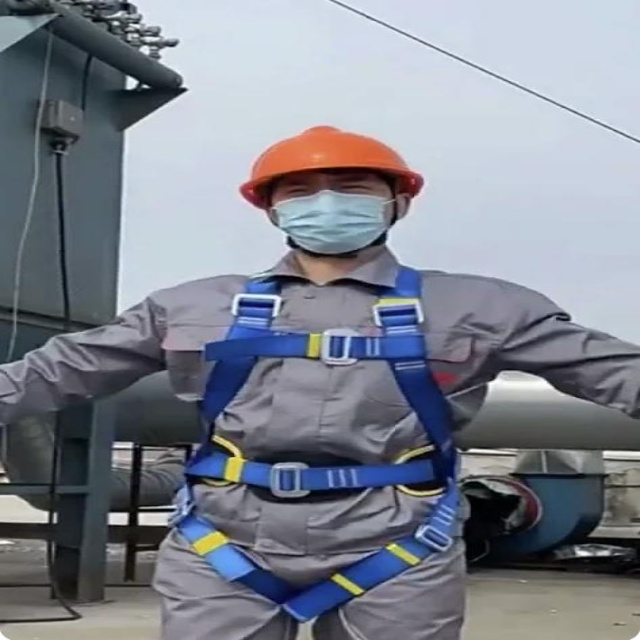Arnes_seguridad: (160, 261, 478, 620)
